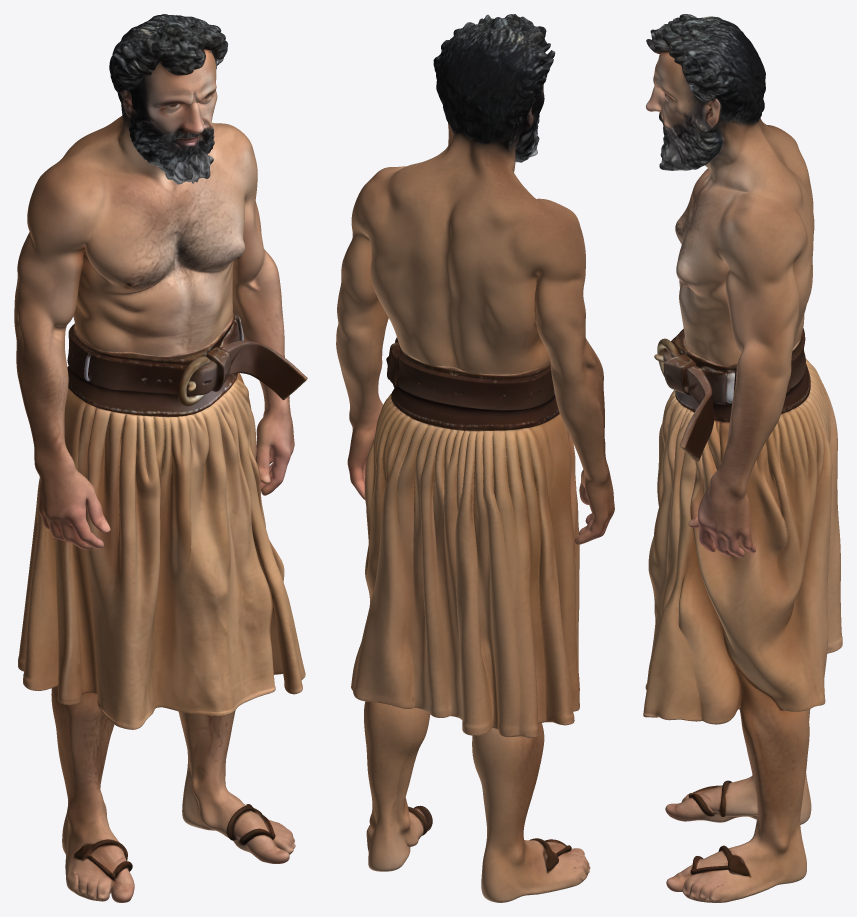
Rendered from crowd_carpenter_rodin_source.glb.
3 renders of one model, left to right at view 1: azimuth 30°, elevation 25°; view 2: azimuth 150°, elevation 25°; view 3: azimuth 270°, elevation 25°, orthographic. The views are drawn at different scales.
Parts seen in each view (by area): view 1: model; view 2: model; view 3: model.
Boxes of the visible parts, left/top/right/bottom form: model: left=14, top=14, right=307, bottom=902; model: left=336, top=14, right=614, bottom=902; model: left=643, top=14, right=842, bottom=902.
Bounding box in the file's own units: 0.6127 × 1.9 × 0.4152.
1 material, 1 textured.
